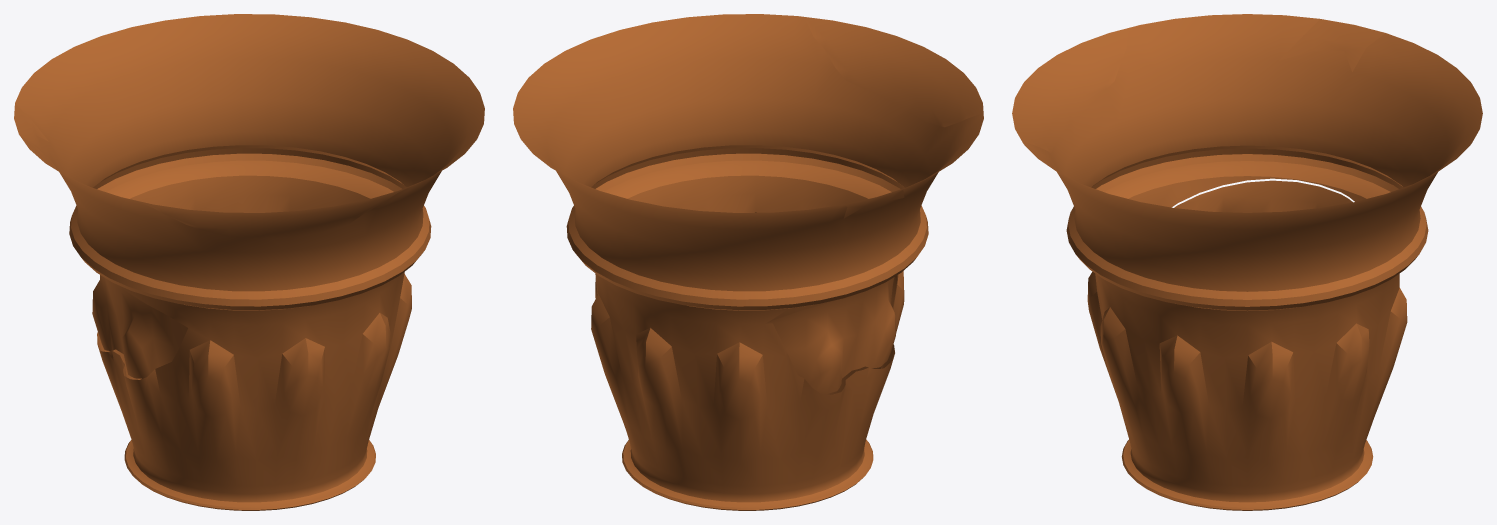
Rendered from BrokenPot.fbx.
3 views of the same model, side by side, from view 1: azimuth 30°, elevation 25°; view 2: azimuth 150°, elevation 25°; view 3: azimuth 270°, elevation 25° (orthographic).
Visible parts, largest first — view 1: BrokenPot, BrokenPot.001, Shard1.001, Shard2, Shard5; view 2: BrokenPot, BrokenPot.001, Shard2, Shard1.001, Shard5; view 3: BrokenPot, BrokenPot.001, Shard2, Shard1.001, Shard5.
Part boxes in pixels (<box>): BrokenPot: <box>15,14,484,510</box>; BrokenPot.001: <box>15,14,484,510</box>; Shard1.001: <box>92,275,187,378</box>; Shard2: <box>134,183,416,238</box>; Shard5: <box>14,103,55,167</box>; BrokenPot: <box>513,14,983,510</box>; BrokenPot.001: <box>513,14,983,510</box>; Shard2: <box>804,17,983,127</box>; Shard1.001: <box>771,277,895,393</box>; Shard5: <box>844,187,905,218</box>; BrokenPot: <box>1022,14,1482,510</box>; BrokenPot.001: <box>1024,14,1481,510</box>; Shard2: <box>1012,28,1128,152</box>; Shard1.001: <box>1174,180,1352,212</box>; Shard5: <box>1279,19,1385,71</box>.
Bounding box in the file's own units: 404 × 333 × 404.
